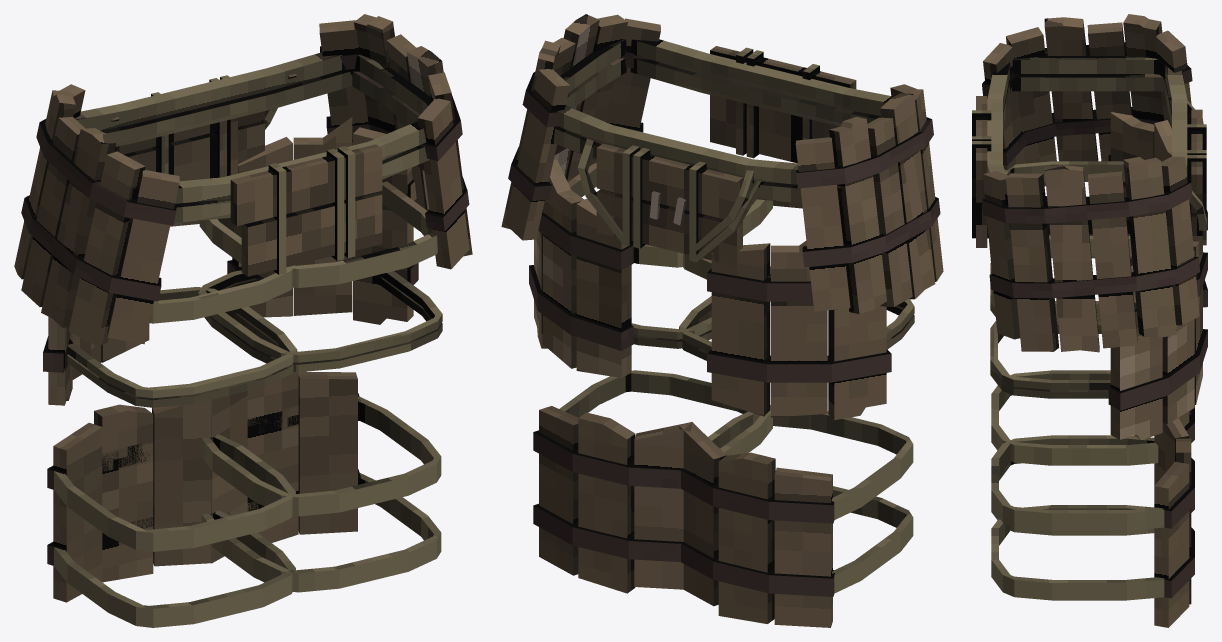
The picture shows the model from 3 angles, left to right: view 1: azimuth 30°, elevation 25°; view 2: azimuth 150°, elevation 25°; view 3: azimuth 270°, elevation 25°; orthographic projection. The views are drawn at different scales.
Parts seen in each view (by area): view 1: body, right_leg, left_leg; view 2: body, left_leg, right_leg; view 3: body, right_leg, left_leg.
Part boxes in pixels (left/top/right/bottom): body: left=14, top=14, right=472, bottom=345; right_leg: left=198, top=117, right=442, bottom=592; left_leg: left=43, top=218, right=297, bottom=627; body: left=501, top=14, right=943, bottom=314; left_leg: left=679, top=199, right=914, bottom=627; right_leg: left=529, top=159, right=772, bottom=593; body: left=972, top=14, right=1206, bottom=352; right_leg: left=990, top=233, right=1207, bottom=627; left_leg: left=990, top=112, right=1207, bottom=535.
Size of the model in its own units: 0.6915 by 0.8533 by 0.3834.
Materials: 1 (1 with a texture image).
